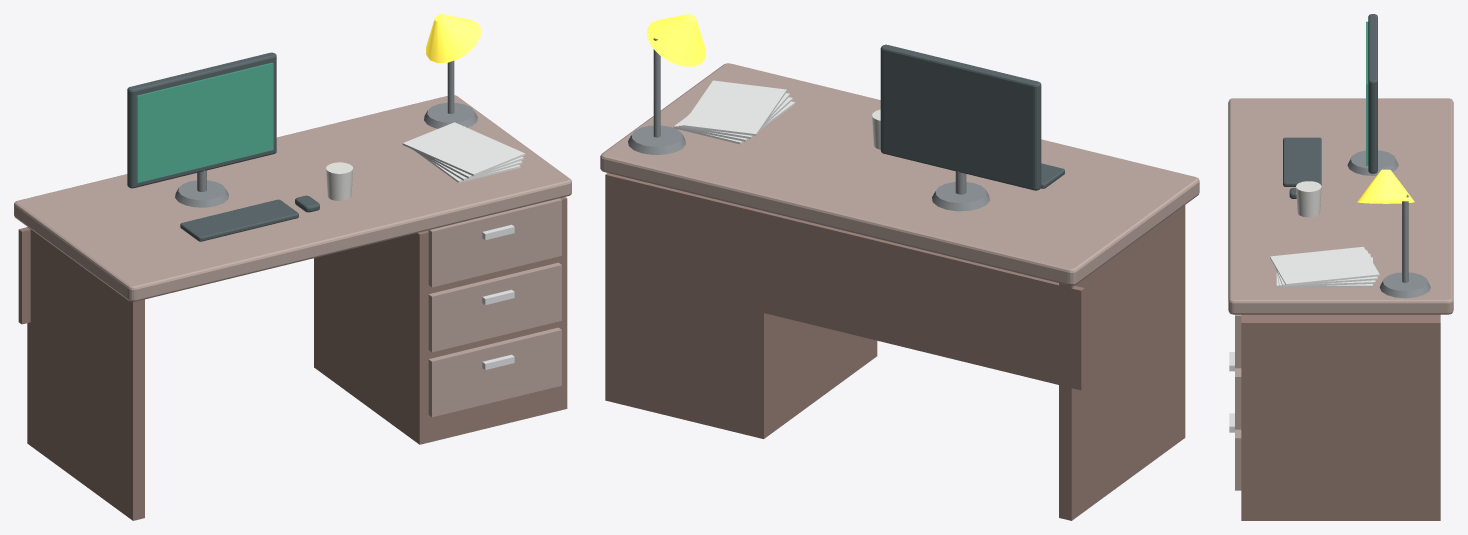
The model's file is rest_desk.glb.
3 renders of one model, left to right at view 1: azimuth 30°, elevation 25°; view 2: azimuth 150°, elevation 25°; view 3: azimuth 270°, elevation 25°, orthographic. The views are drawn at different scales.
Visible parts, largest first — view 1: rest_desk; view 2: rest_desk; view 3: rest_desk.
Boxes of the visible parts, x1,y1,x2,y2 form: rest_desk: (14, 14, 571, 520); rest_desk: (600, 14, 1199, 520); rest_desk: (1228, 14, 1453, 520).
Size of the model in its own units: 1.5 by 1.18 by 0.7.
